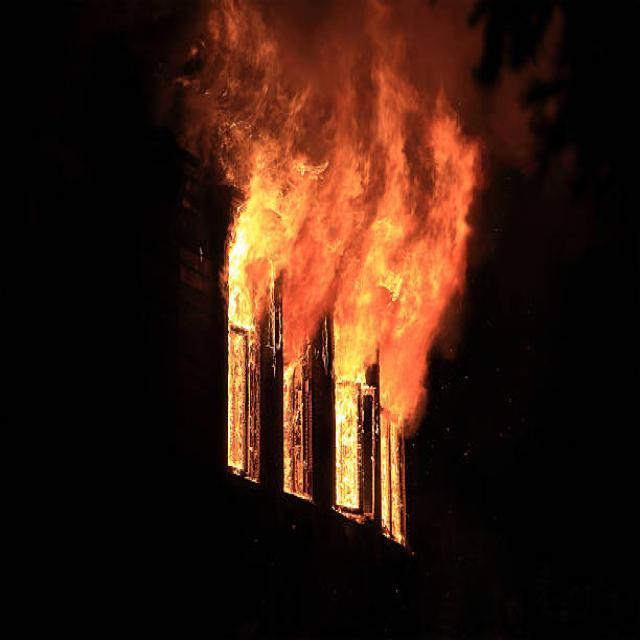Fire: (210, 0, 484, 528)
Smoke: (450, 0, 573, 191), (137, 4, 239, 143)
